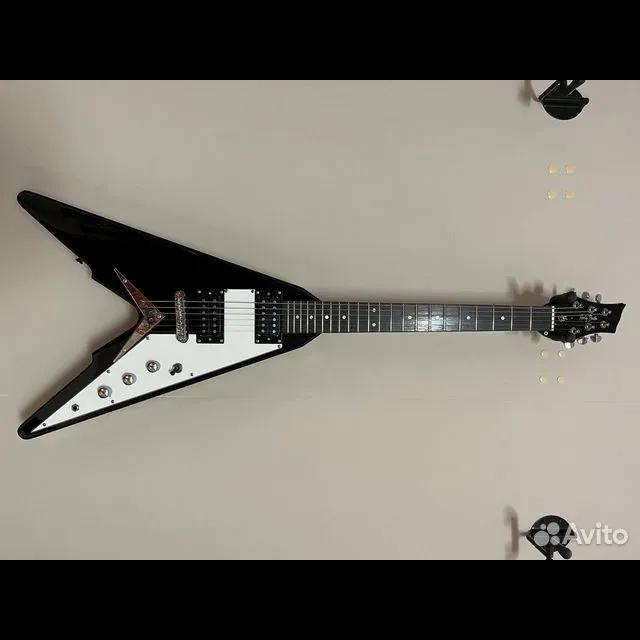Electric-Guitar: (19, 190, 626, 440)
